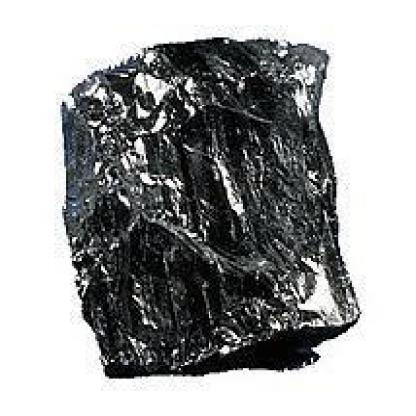Sedimentary_coal: (27, 23, 358, 378)
